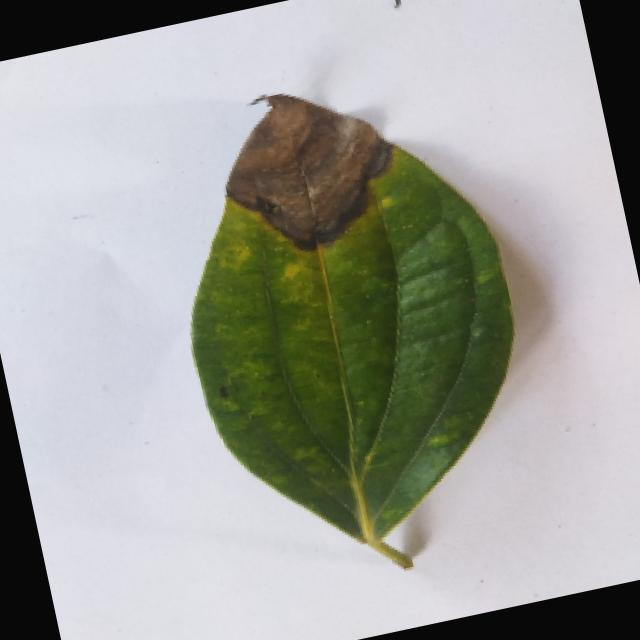footrot: (140, 52, 565, 602)
